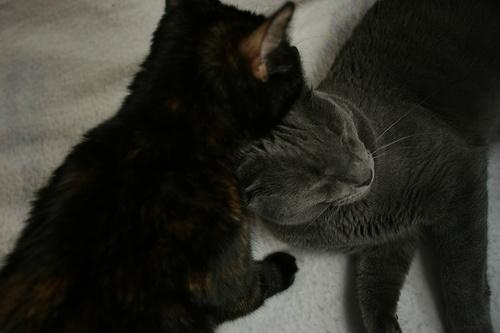cat: (2, 1, 306, 333), (240, 1, 500, 333)
